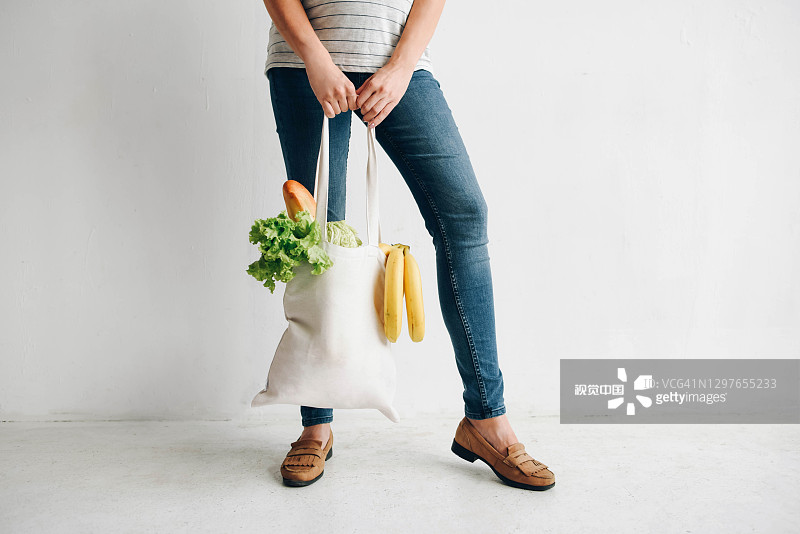no-phone: (296, 49, 364, 125), (358, 61, 414, 135)
